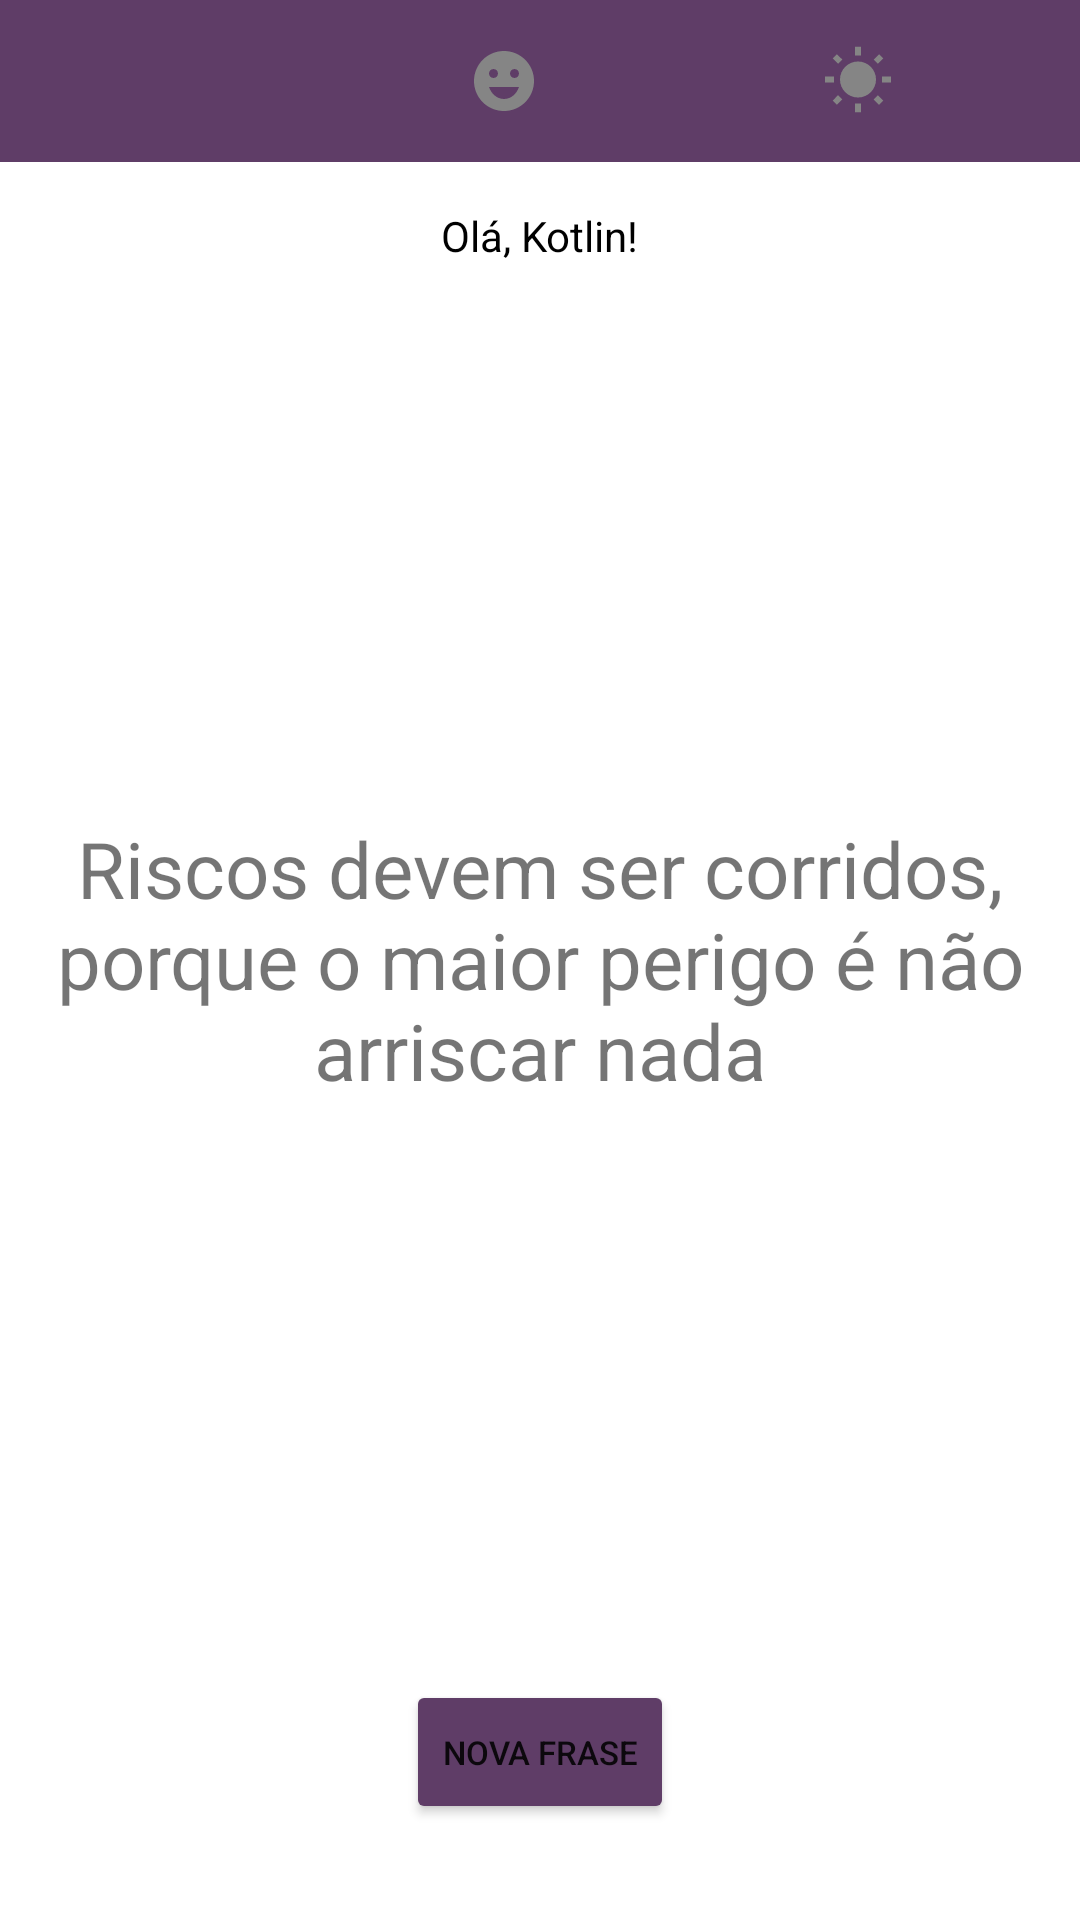

Icon click points for this 1080×1920 phone screenshot, format (x=x, y=y):
emoji emotions: (x=504, y=81)
sunny: (x=858, y=79)
